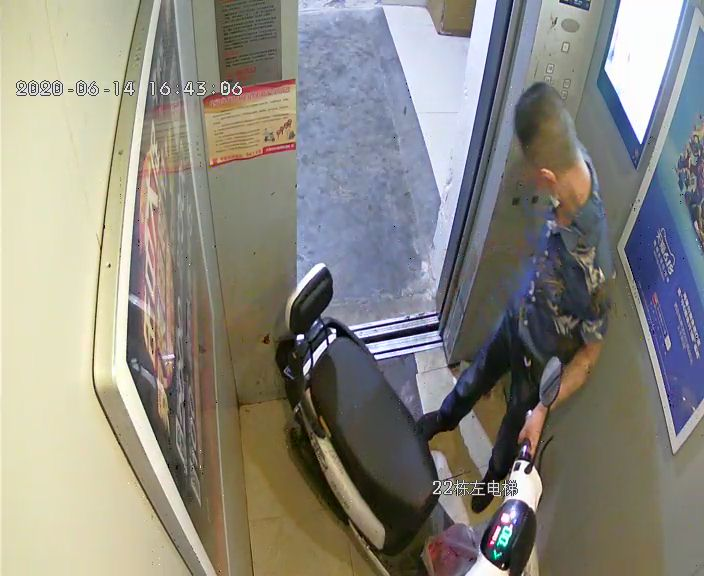Electric-bicycle: (281, 263, 558, 573)
